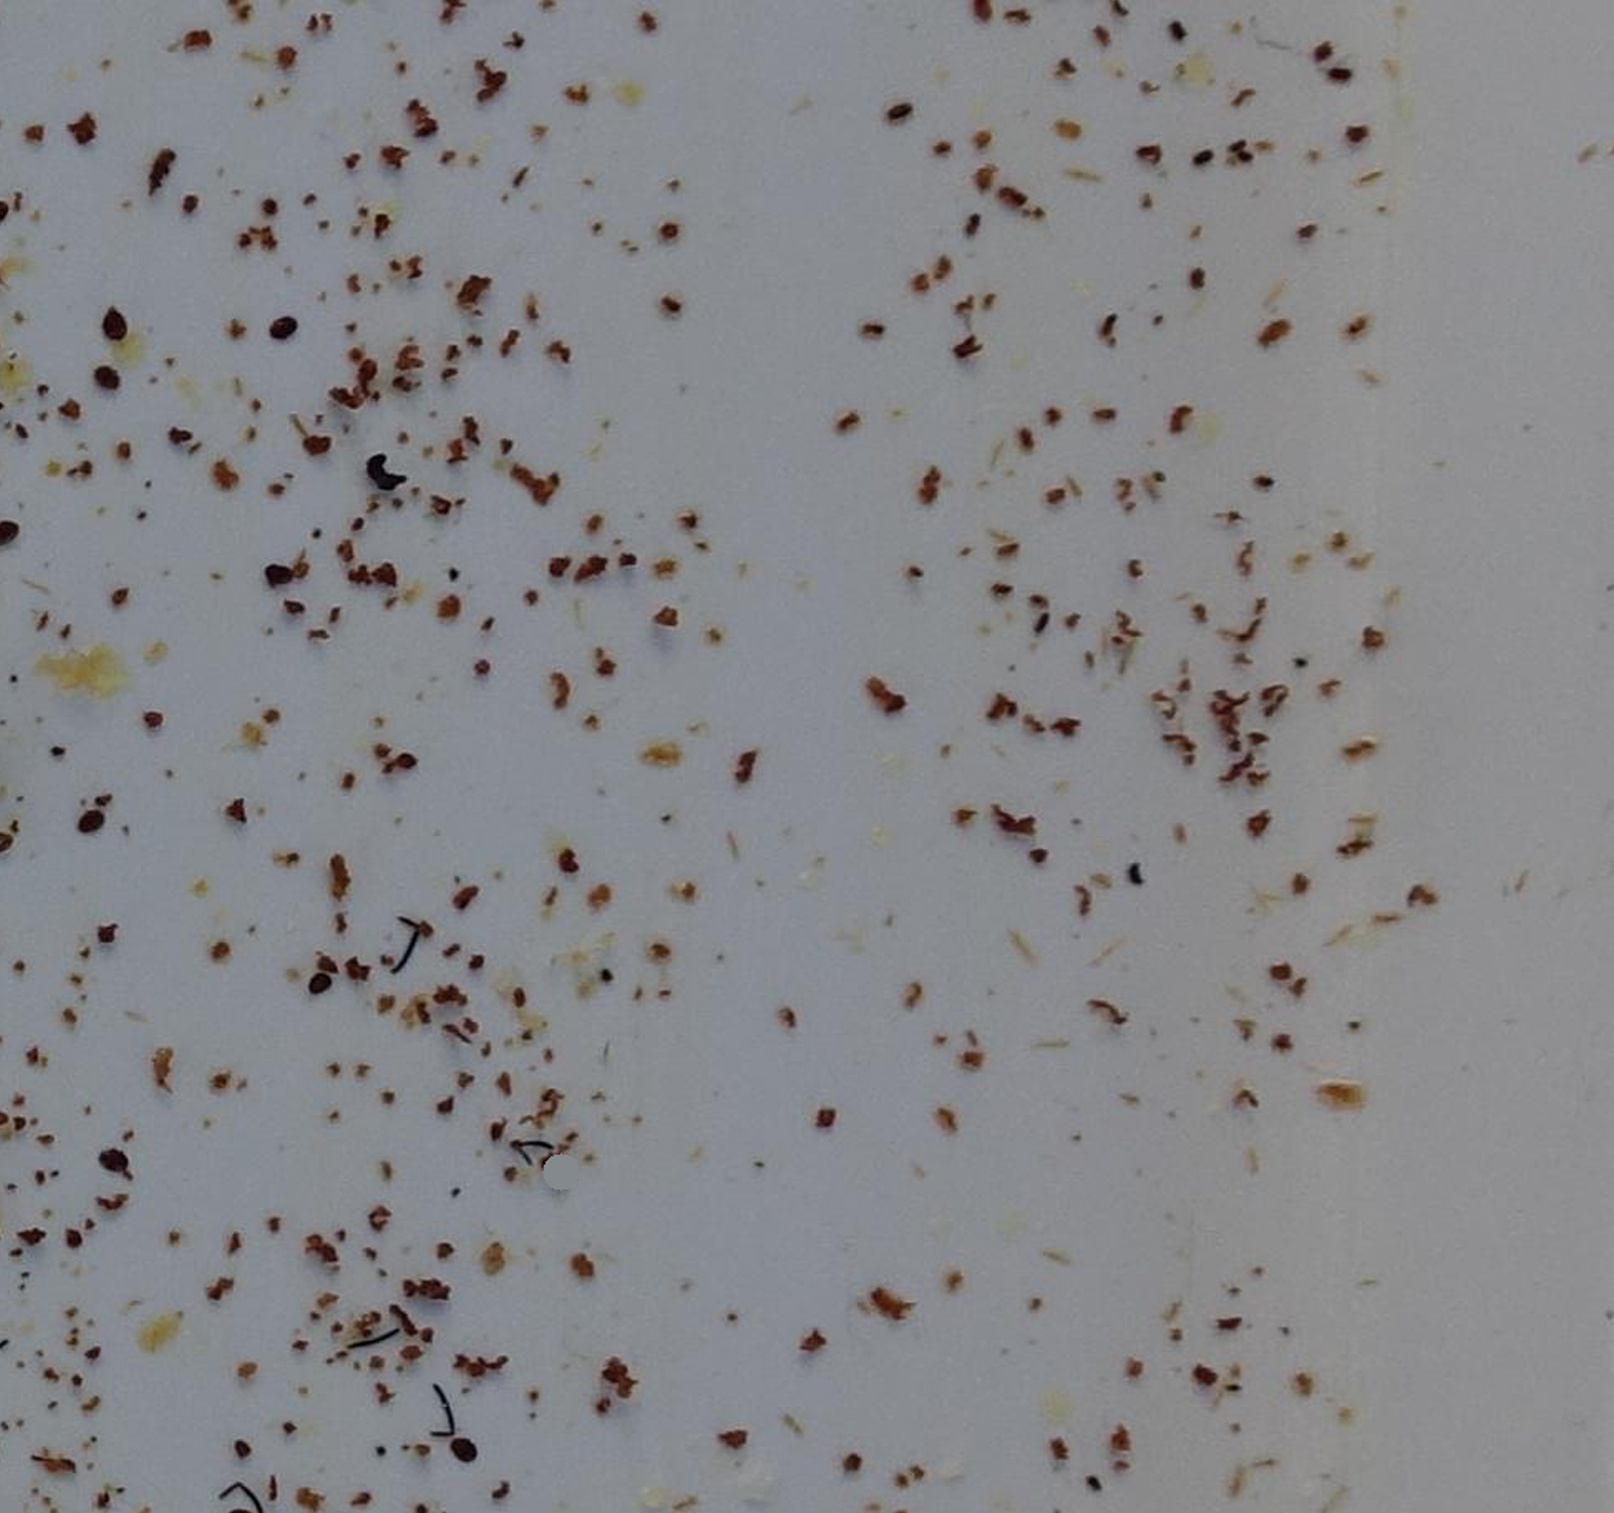Varroa: (102, 1150, 127, 1176), (102, 313, 127, 338), (97, 355, 121, 381), (263, 562, 287, 587), (80, 809, 102, 833), (309, 968, 330, 991), (272, 319, 292, 338), (459, 1440, 476, 1460)
